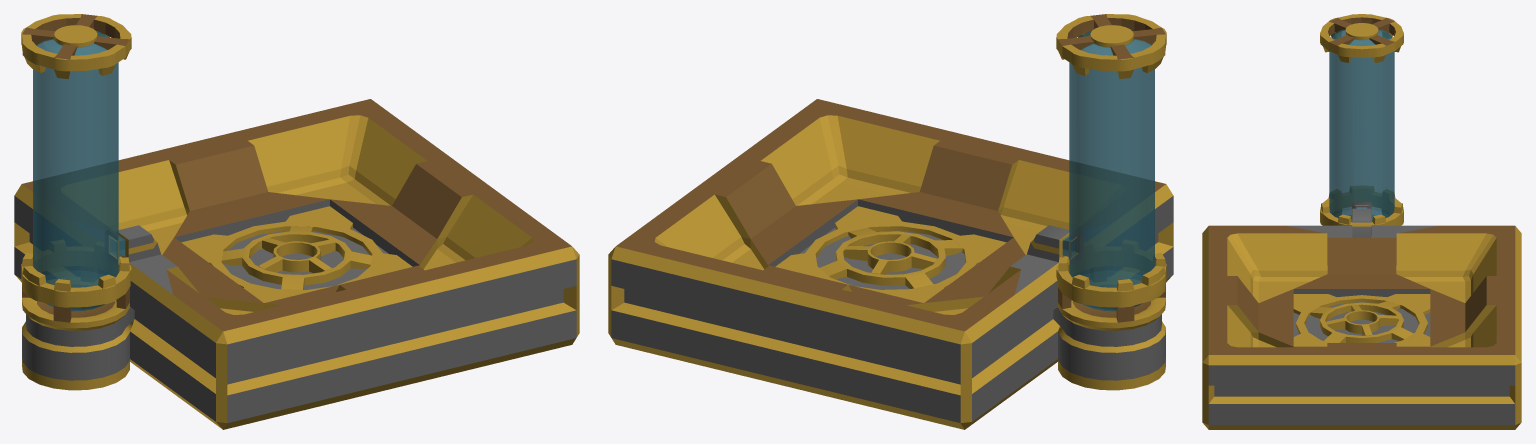
The model's file is Activator TimeSphereCube.fbx.
The picture shows the model from 3 angles, left to right: view 1: azimuth 30°, elevation 25°; view 2: azimuth 150°, elevation 25°; view 3: azimuth 270°, elevation 25°; orthographic projection. The views are drawn at different scales.
Parts seen in each view (by area): view 1: Activator, FluidContainer, FluidSupport, OuterRing, MediumRing, CenterRing; view 2: Activator, FluidContainer, FluidSupport, OuterRing, MediumRing, CenterRing; view 3: Activator, FluidContainer, FluidSupport, OuterRing, MediumRing, CenterRing.
Part boxes in pixels (box(x1,y1,x2,y2)): Activator: box(14, 99, 579, 429); FluidContainer: box(33, 31, 125, 311); FluidSupport: box(21, 14, 134, 390); OuterRing: box(181, 206, 412, 302); MediumRing: box(222, 226, 371, 289); CenterRing: box(258, 238, 335, 273); Activator: box(608, 99, 1173, 429); FluidContainer: box(1062, 31, 1154, 311); FluidSupport: box(1053, 14, 1166, 390); OuterRing: box(775, 206, 1006, 302); MediumRing: box(820, 228, 962, 288); CenterRing: box(844, 234, 937, 274); Activator: box(1202, 208, 1521, 429); FluidContainer: box(1329, 29, 1394, 221); FluidSupport: box(1320, 14, 1403, 225); OuterRing: box(1293, 294, 1430, 346); MediumRing: box(1310, 301, 1413, 342); CenterRing: box(1326, 305, 1397, 335).
Size of the model in its own units: 9.6 by 6.77 by 7.73.
